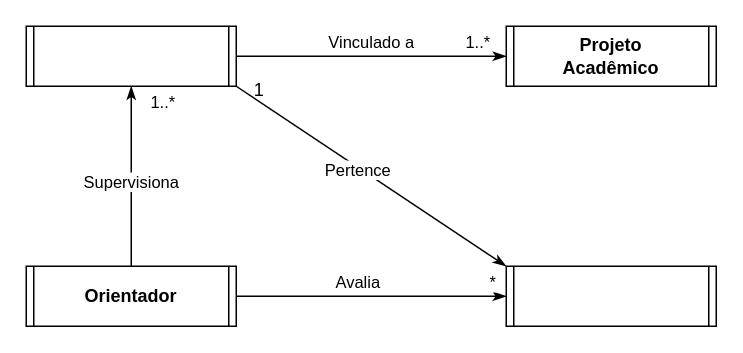
Some shapes in this 743 by 353 pixel diagram are drawn without their labels. The centre of each missing label's shape, as x and y in pixels:
Bolsista: pixel 130 55
Lançamento Semanal: pixel 610 295
